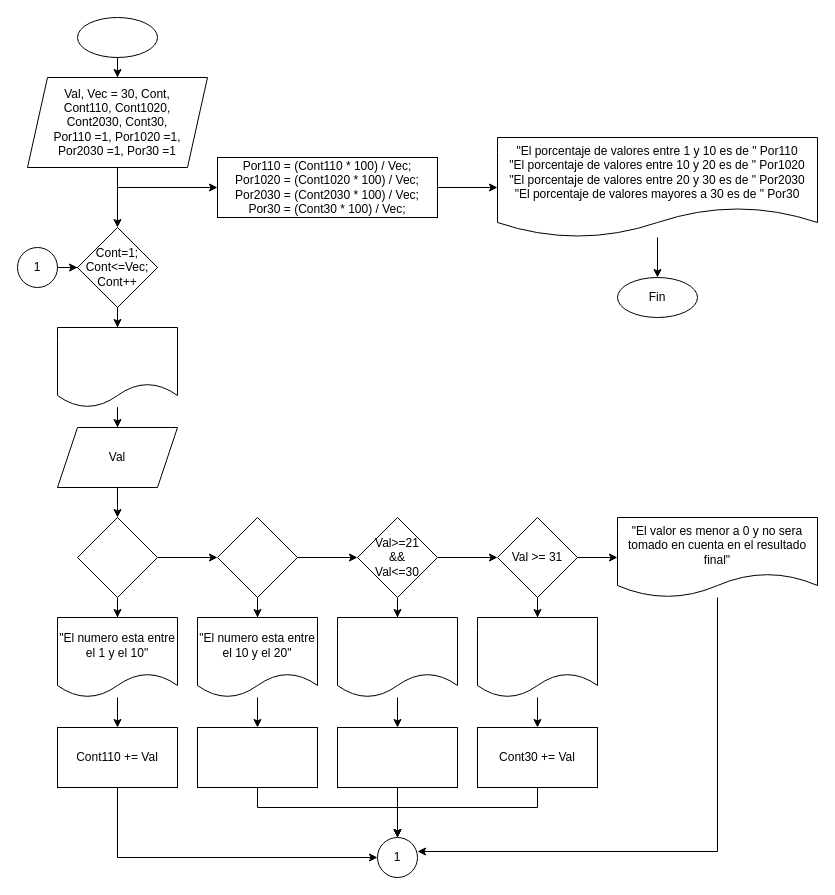
Some shapes in this 835 by 895 pixel diagram are drawn without their labels. The centre of each missing label's shape, as x and y in pixels:
"El numero esta entre el 20 y el 30": point 397,657
"El valor es mayor a 30": point 537,657
"Ingrese un valor entero": point 117,367
Cont1020 += Val: point 257,757
Cont2030 += Val: point 397,757
Inicio: point 117,37
Val>=1 && Val<=10: point 117,557
Val>=11 && Val<=20: point 257,557
